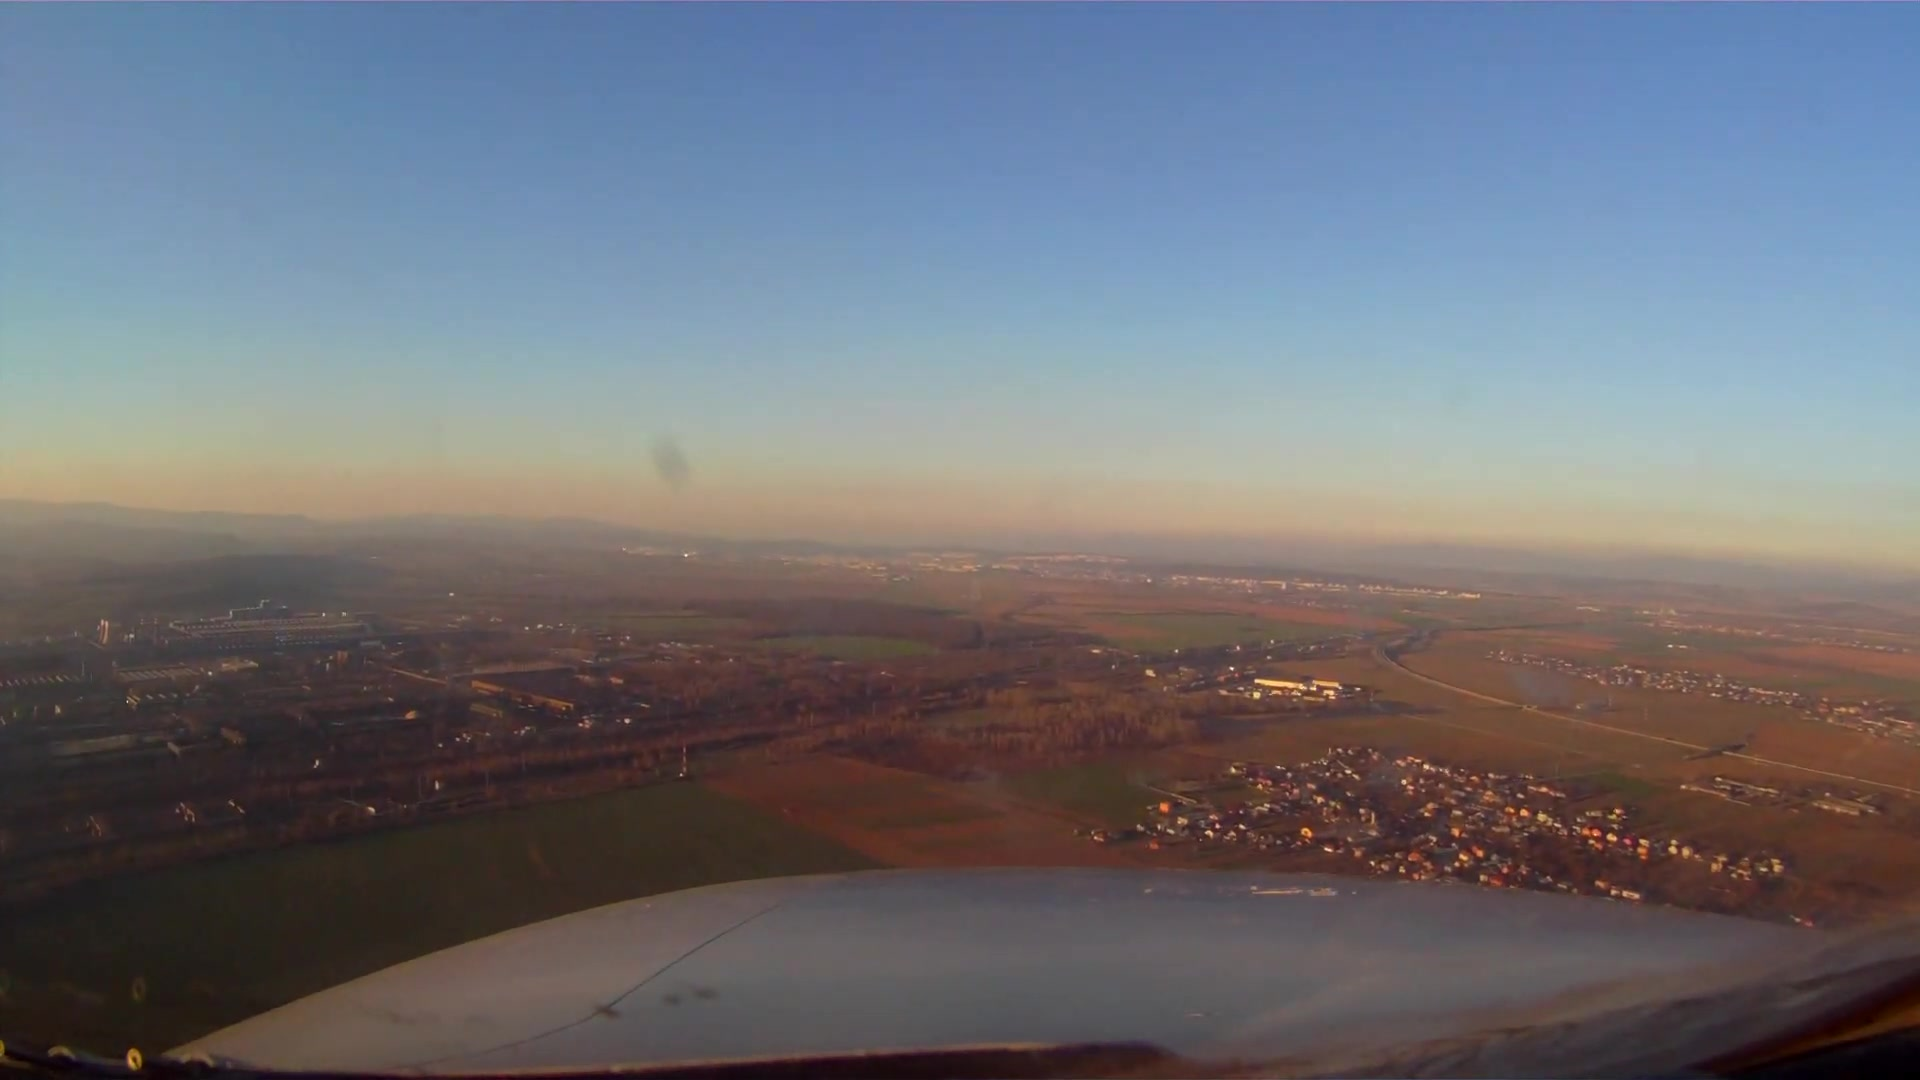runway: (965, 575, 981, 603)
